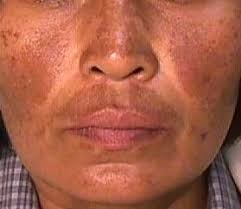Melasma: (0, 18, 64, 116), (170, 18, 241, 104), (88, 2, 158, 57), (66, 162, 152, 199)
